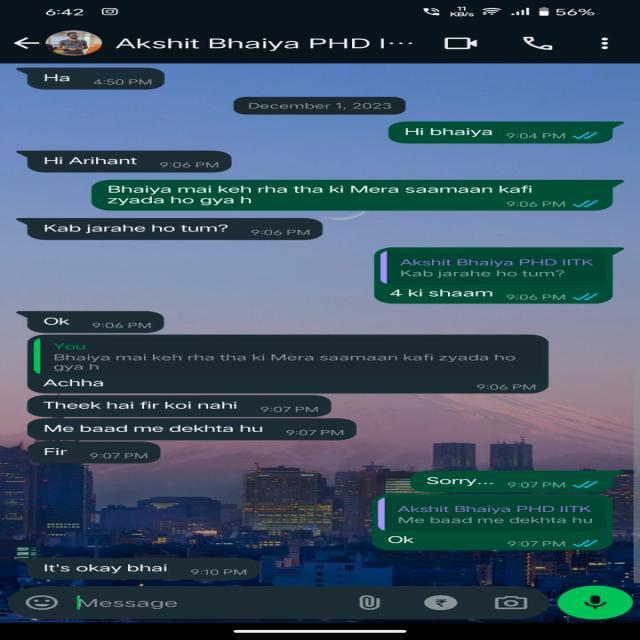scam: (30, 420, 282, 442), (34, 399, 247, 417), (34, 558, 172, 578), (32, 223, 236, 236), (45, 153, 172, 168), (28, 374, 116, 392), (27, 68, 86, 88), (25, 314, 88, 332), (35, 443, 84, 460)
